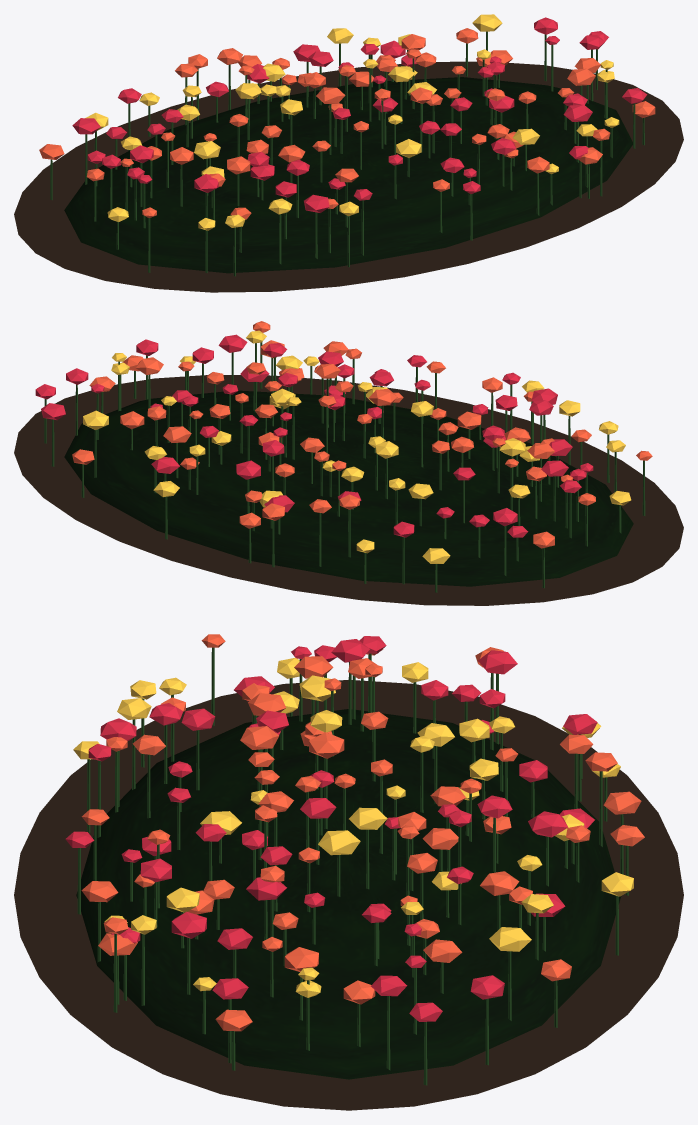
The model's file is flower-bed-1.glb.
The picture shows the model from 3 angles, top to bottom: view 1: azimuth 30°, elevation 25°; view 2: azimuth 150°, elevation 25°; view 3: azimuth 270°, elevation 25°; orthographic projection. The views are drawn at different scales.
Parts seen in each view (by area): view 1: flower-bed-1_MeshStandardMaterial (×4); view 2: flower-bed-1_MeshStandardMaterial (×4); view 3: flower-bed-1_MeshStandardMaterial (×4).
Part boxes in pixels (x1,y1,x2,y2): flower-bed-1_MeshStandardMaterial (×4): [14, 14, 683, 292]; flower-bed-1_MeshStandardMaterial (×4): [14, 321, 683, 605]; flower-bed-1_MeshStandardMaterial (×4): [14, 634, 683, 1110].
Bounding box in the file's own units: 3.5 × 0.5653 × 2.3.
Materials: 4 (1 with a texture image).
